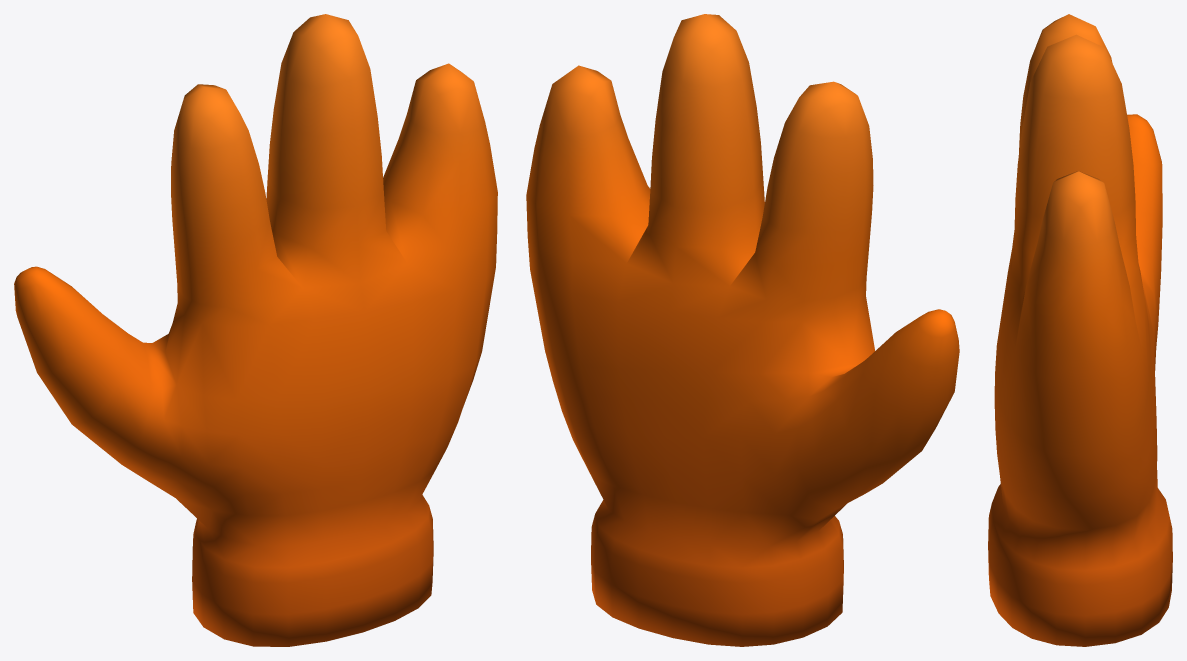
Rendered from Collectable_Hand_Glove_01.fbx.
3 views of the same model, side by side, from view 1: azimuth 30°, elevation 25°; view 2: azimuth 150°, elevation 25°; view 3: azimuth 270°, elevation 25° (orthographic). The views are drawn at different scales.
Visible parts, largest first — view 1: Collectable_Hand_Glove_01; view 2: Collectable_Hand_Glove_01; view 3: Collectable_Hand_Glove_01.
Boxes of the visible parts, left/top/right/bottom form: Collectable_Hand_Glove_01: left=14, top=14, right=497, bottom=646; Collectable_Hand_Glove_01: left=526, top=14, right=959, bottom=646; Collectable_Hand_Glove_01: left=988, top=14, right=1172, bottom=646.
Bounding box in the file's own units: 37.62 × 47.02 × 13.94.
1 material, 1 textured.
